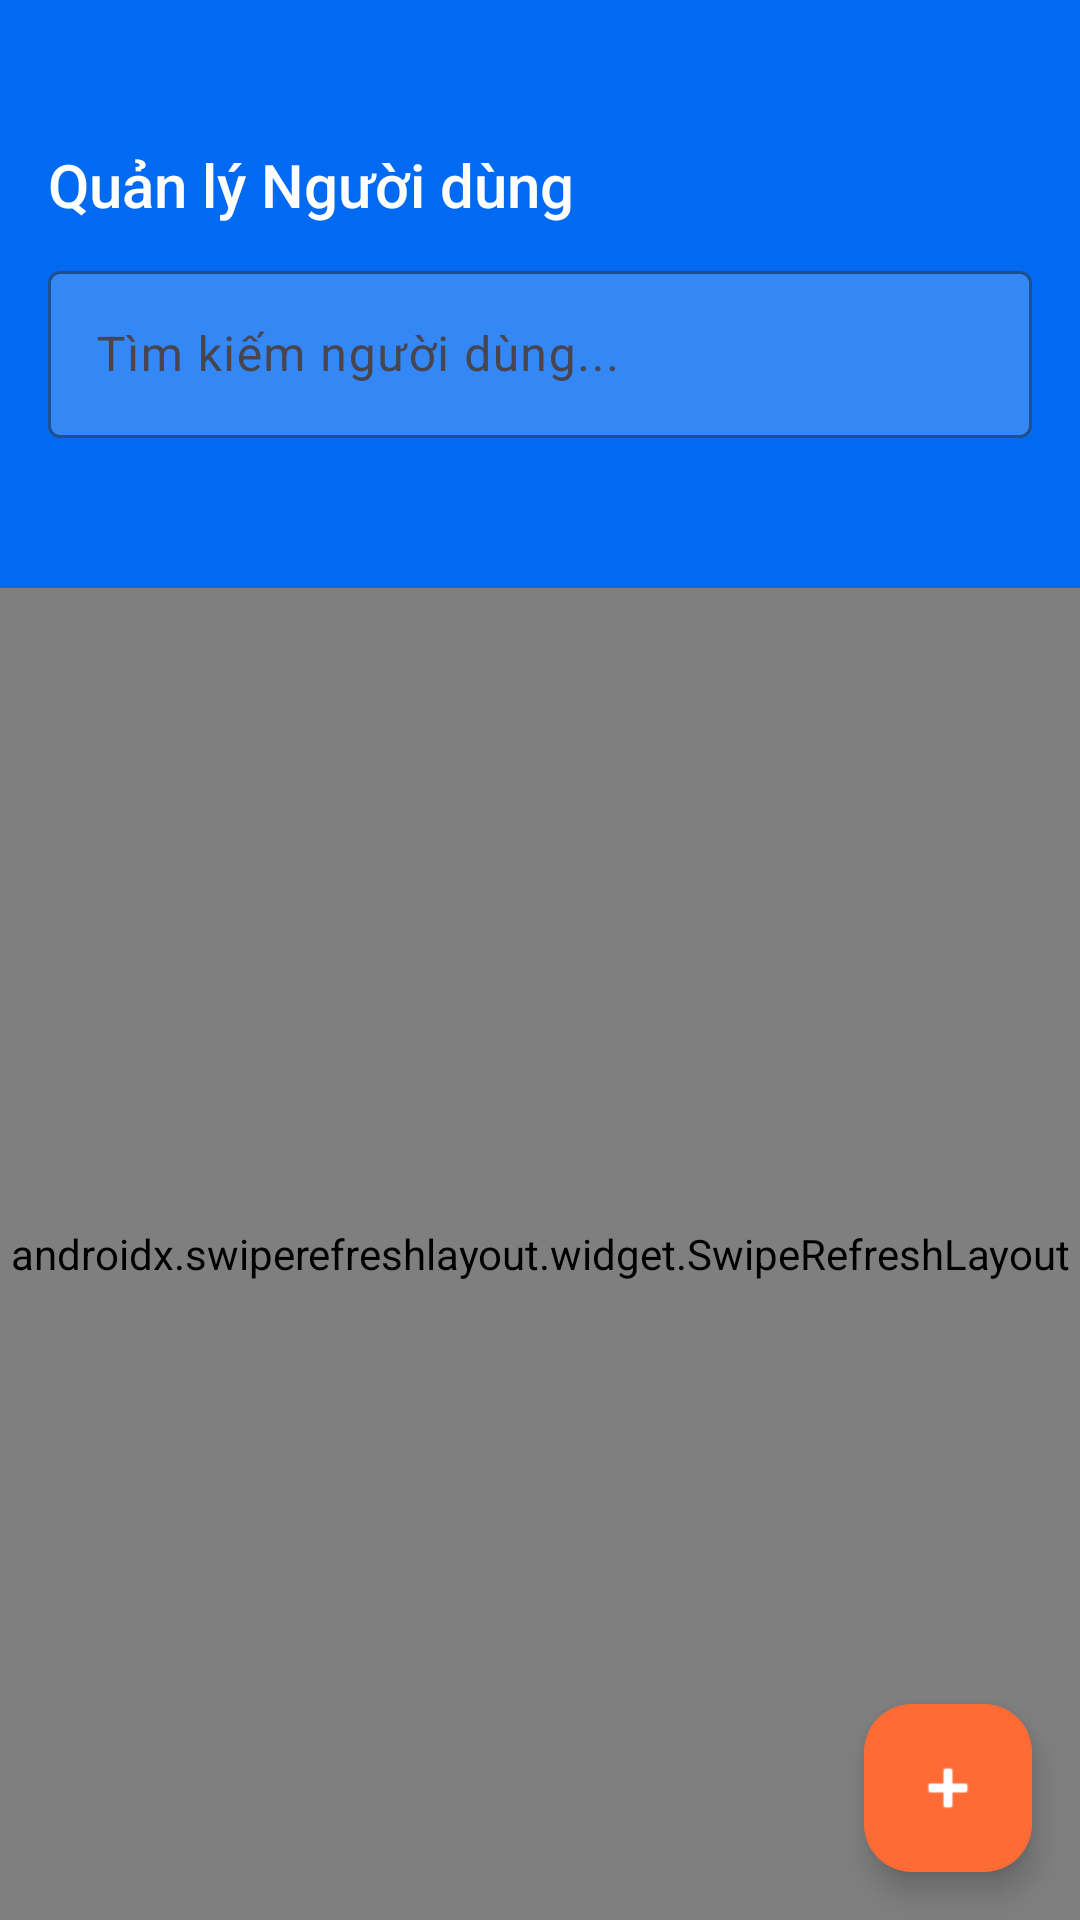

Locate icon controls on the screen. Image size 1080 × 1920, boxes as (x1,y1,x2,y2).
Tạo người dùng: (864,1704,1032,1872)
